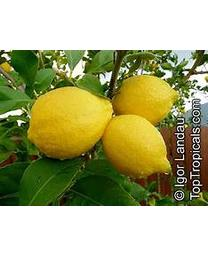lemon: (28, 89, 112, 158), (105, 116, 172, 179), (112, 75, 180, 123)
